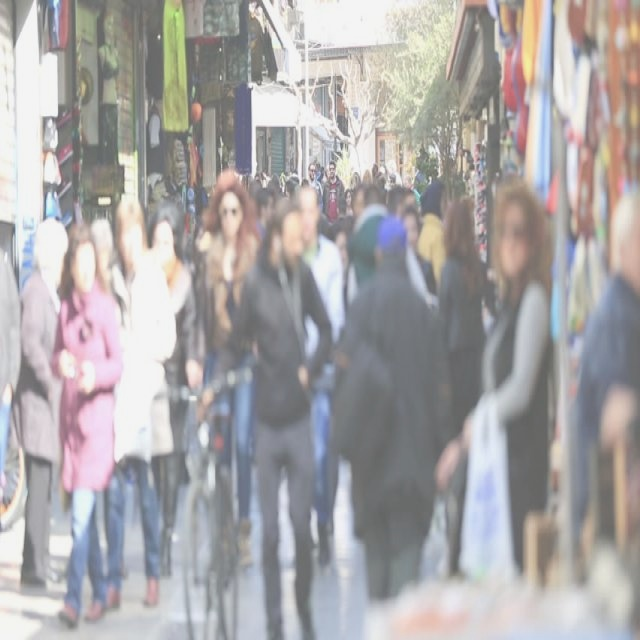pessoa: (432, 178, 556, 582), (228, 197, 334, 639), (332, 217, 452, 600), (100, 196, 178, 615), (48, 220, 125, 631), (198, 164, 264, 599), (570, 187, 640, 592), (11, 216, 71, 590), (144, 202, 200, 582), (296, 182, 346, 566), (438, 200, 493, 436), (401, 166, 450, 290), (344, 162, 378, 318), (238, 166, 301, 250), (88, 212, 124, 310), (97, 12, 121, 120), (318, 181, 345, 260), (322, 158, 346, 226), (377, 157, 402, 219), (305, 162, 323, 214), (464, 150, 476, 193), (316, 160, 328, 182), (300, 177, 311, 191)
